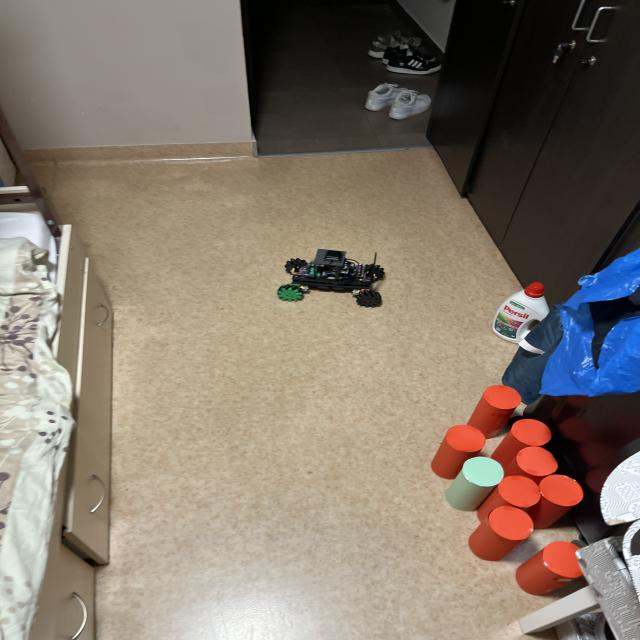robot: (277, 249, 385, 307)
